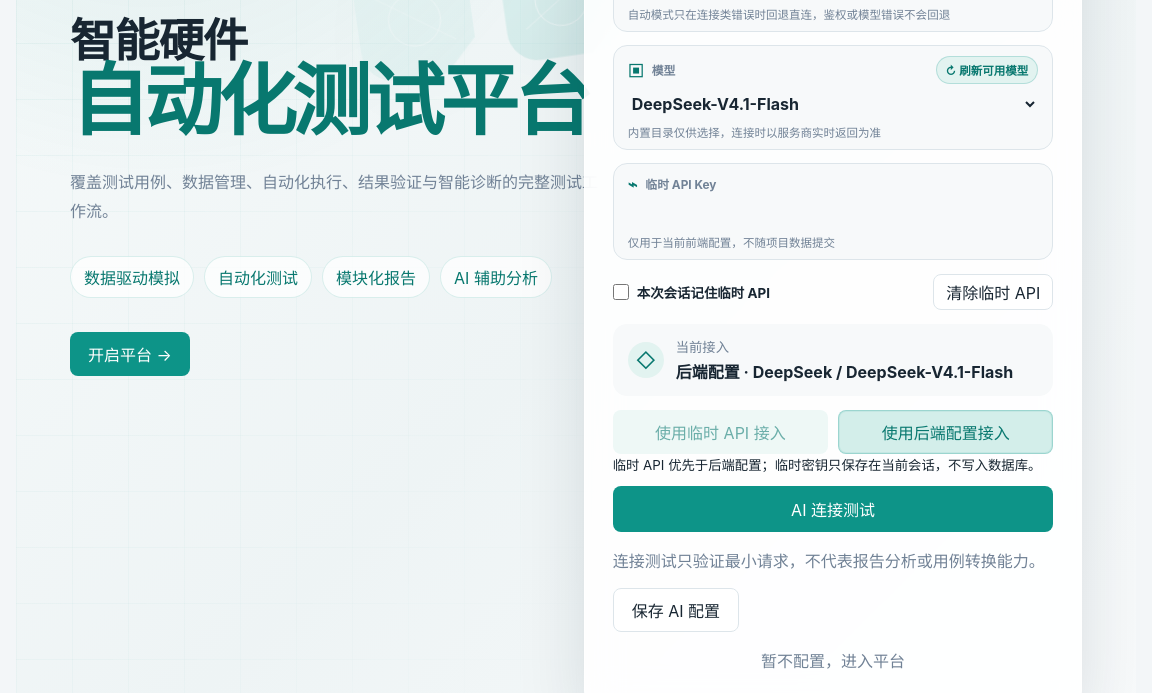
Test: 测试组加载失败时展示原因并可以重试
(page scrolled)
Click the button "开启平台 →": (130, 354) [70,332,190,376]
(page scrolled)
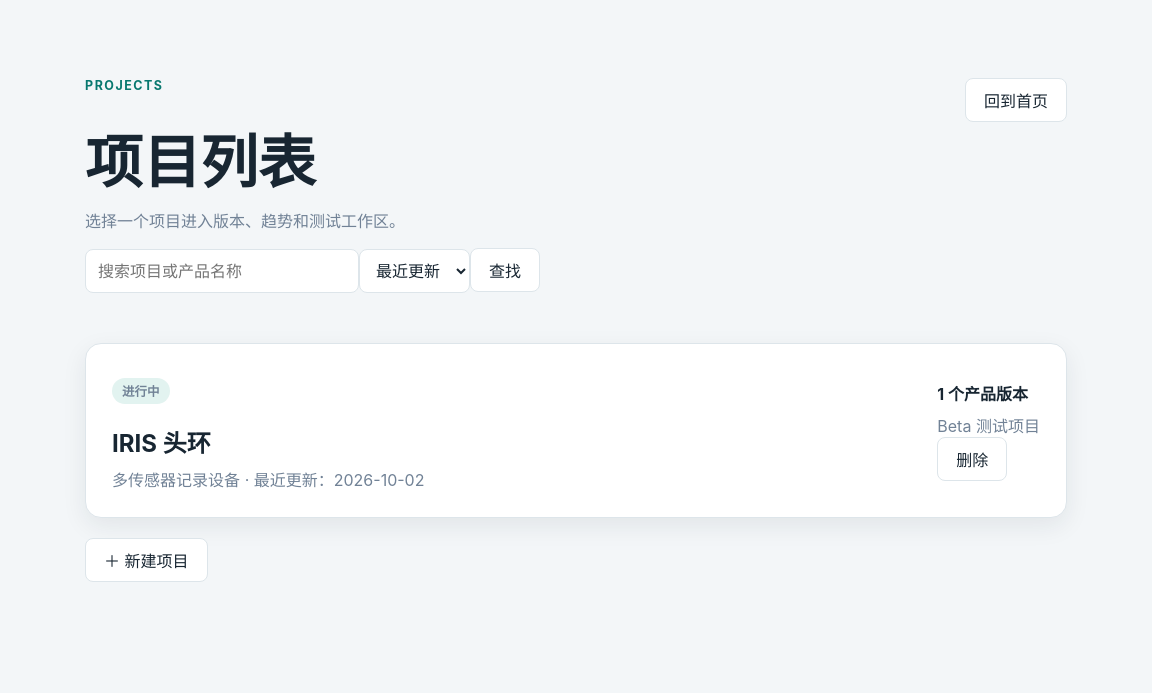
Click the button "进行中 IRIS 头环 多传感器记录设备 · 最近更新：2026-10-02 1 个产品版本 Beta 测试项目 删除": (576, 431) [85,343,1067,518]
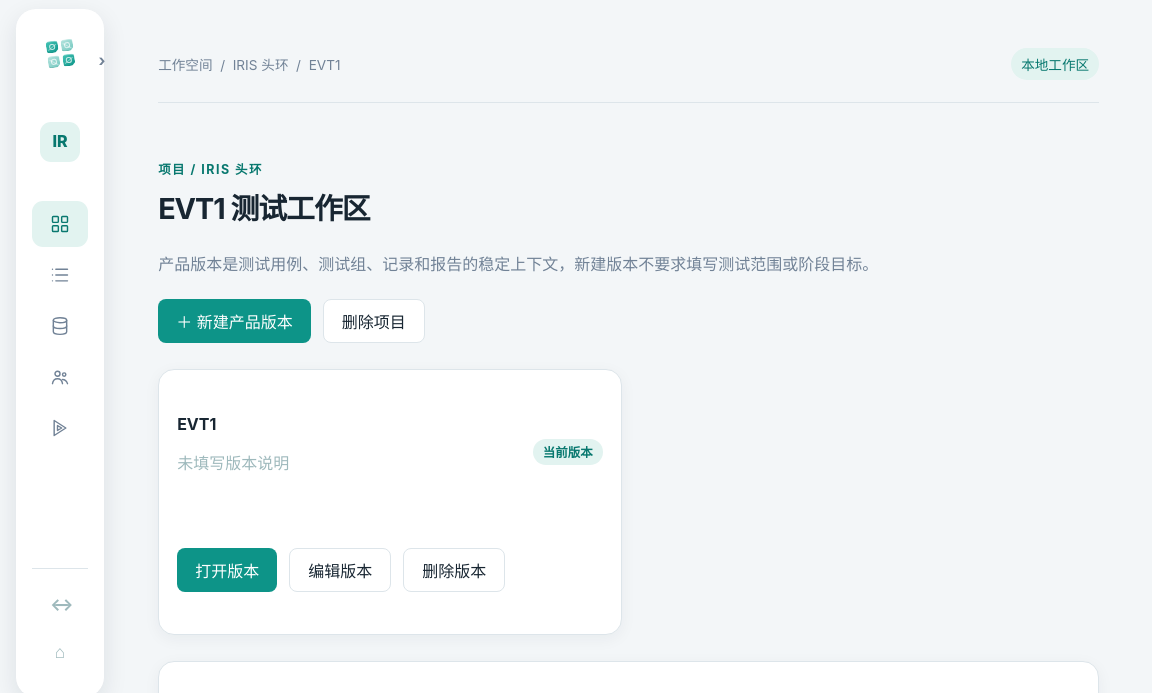
Click the button named "测试组设置": (60, 377) [32,354,88,400]
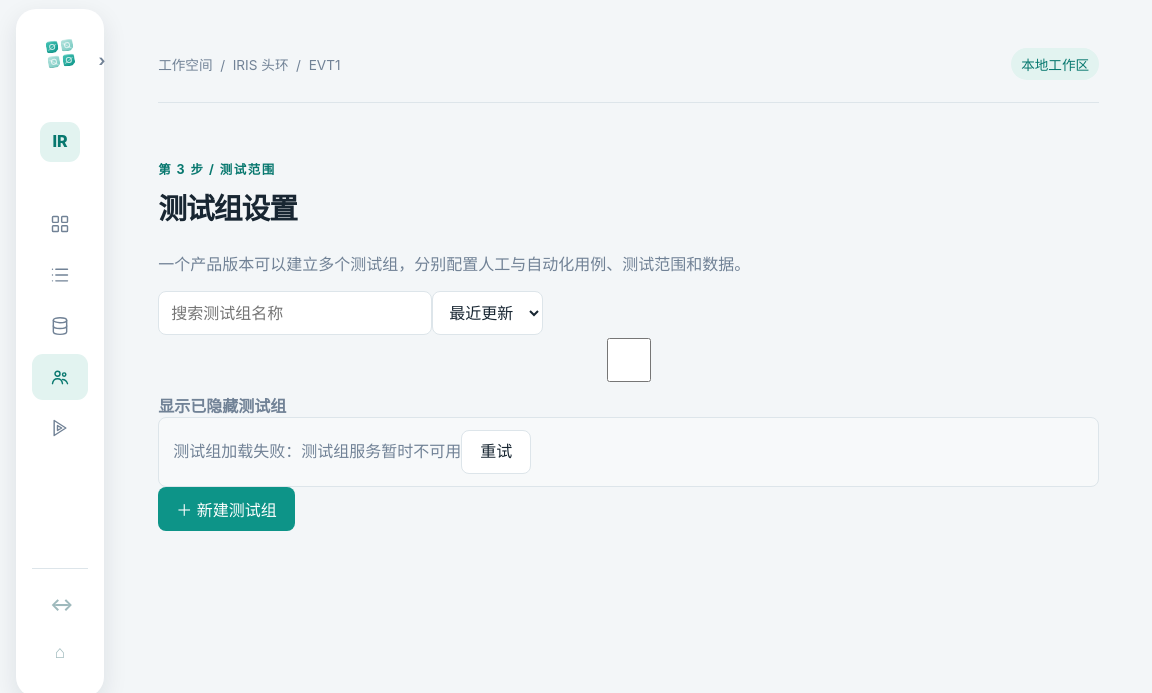
Result: the button "＋ 新建测试组" is shown at [158,487,295,531]
Result: the message shows "测试组加载失败：测试组服务暂时不可用" at [158,417,1099,487]
Click the button "重试": (496, 452) [461,430,531,474]
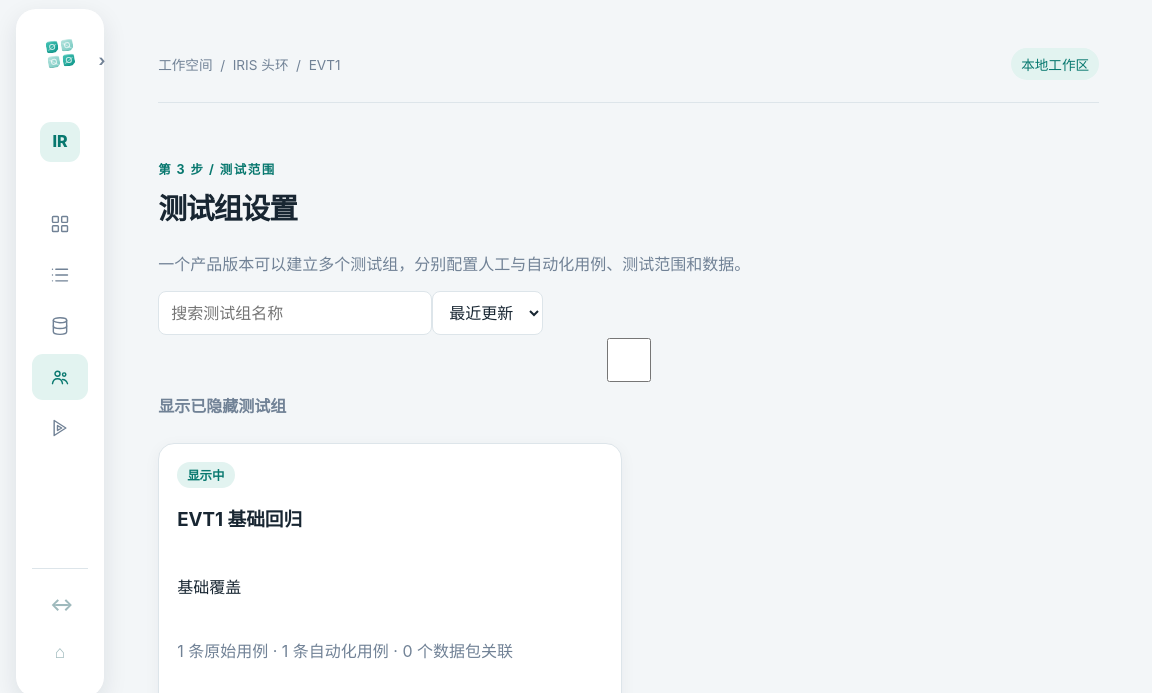
Result: the heading "EVT1 基础回归" is shown at [177,508,302,531]
